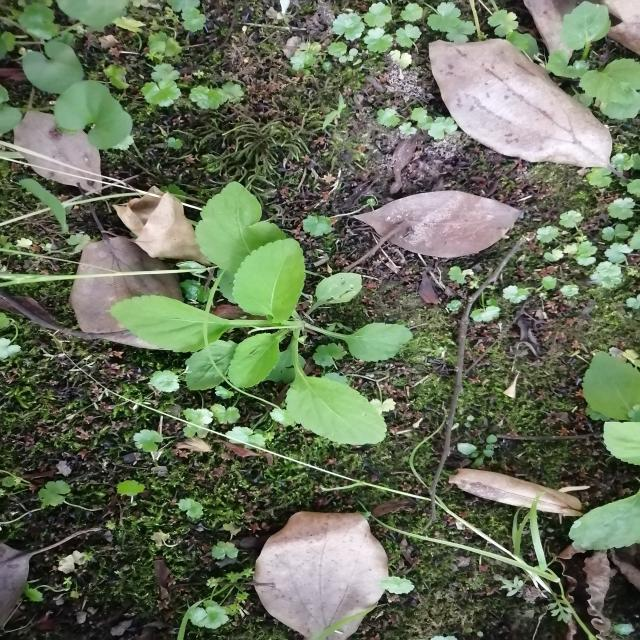Viola: (160, 222, 450, 445)
